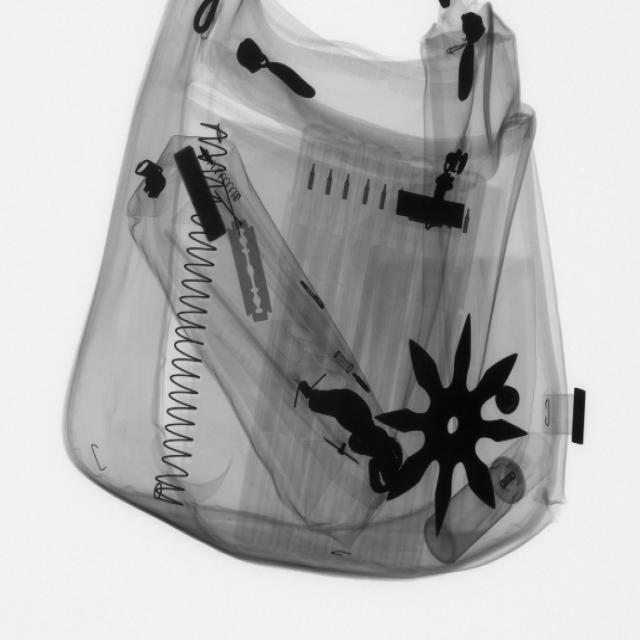BLADE: (227, 215, 277, 330)
SHURIKEN: (375, 314, 531, 534)
